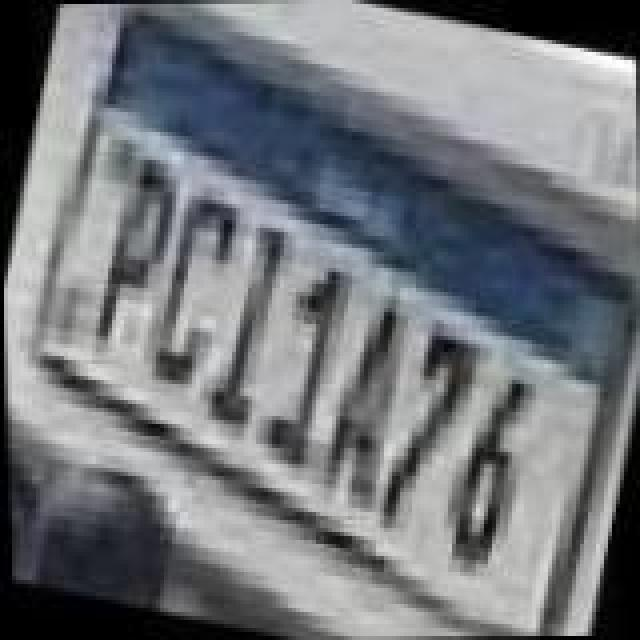1: (244, 252, 364, 476)
6: (430, 364, 562, 592)
7: (366, 316, 498, 544)
A: (304, 286, 428, 522)
C: (136, 182, 256, 398)
I: (190, 212, 306, 440)
P: (78, 152, 198, 368)
